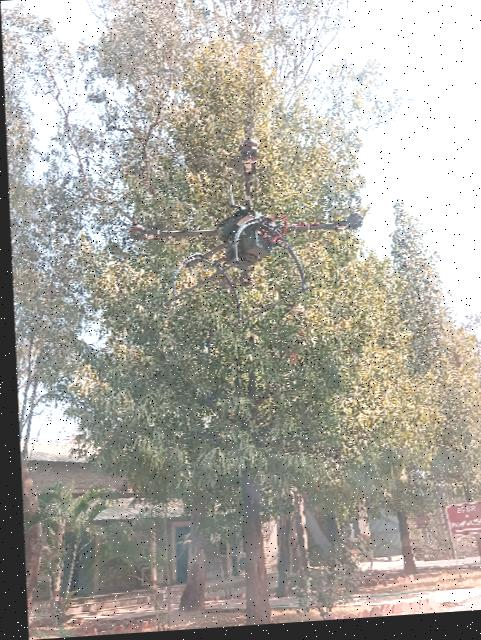drone: (101, 97, 391, 330)
